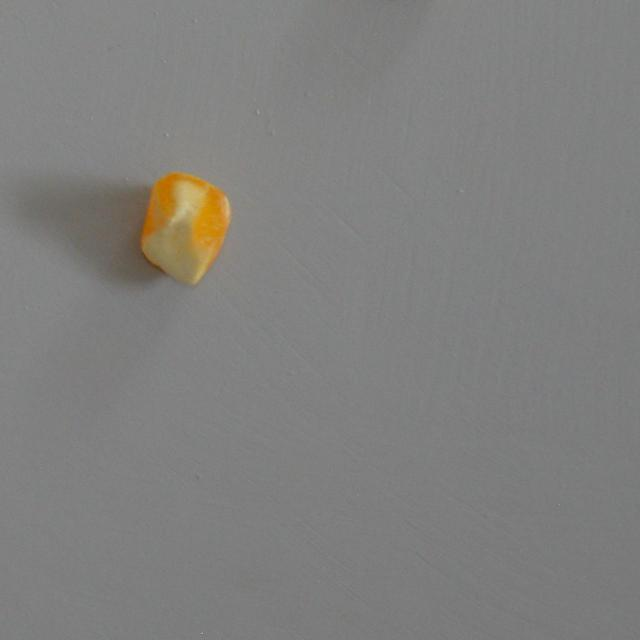pelicula: (137, 170, 232, 286)
